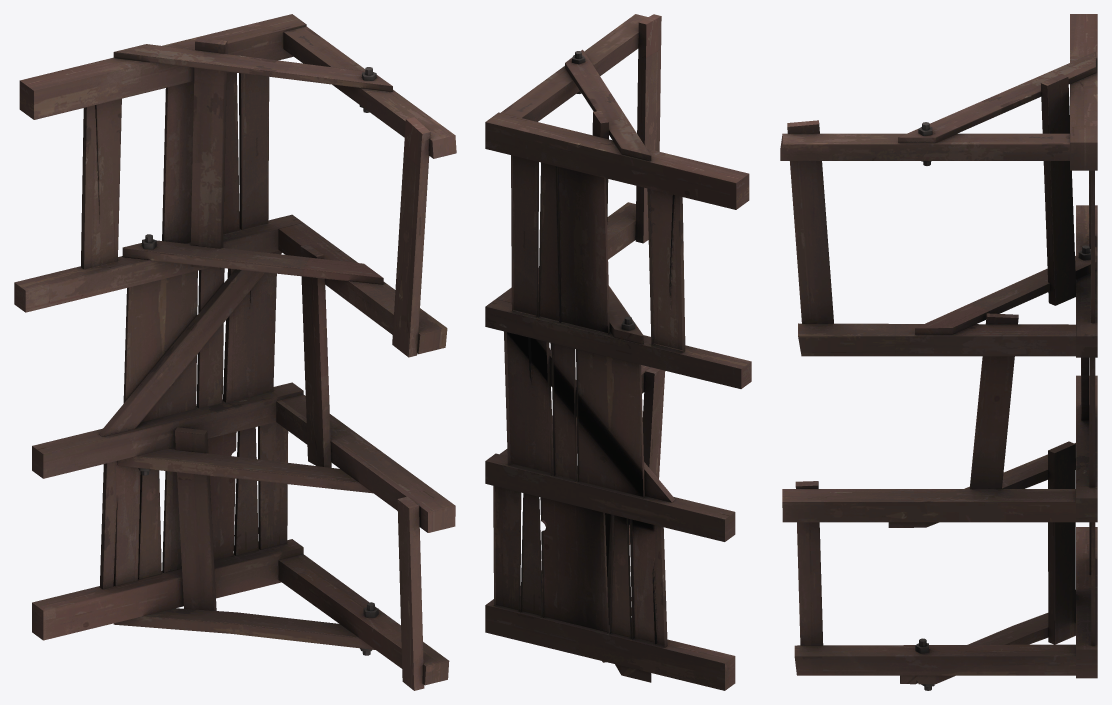
Rendered from props_coalmines_wood_support_256.glb.
3 views of the same model, side by side, from view 1: azimuth 30°, elevation 25°; view 2: azimuth 150°, elevation 25°; view 3: azimuth 270°, elevation 25° (orthographic). The views are drawn at different scales.
Parts seen in each view (by area): view 1: models/props_coalmines/wood_support_256; view 2: models/props_coalmines/wood_support_256; view 3: models/props_coalmines/wood_support_256.
Part boxes in pixels (box(x1,y1,x2,y2)): models/props_coalmines/wood_support_256: box(14, 14, 456, 690); models/props_coalmines/wood_support_256: box(485, 14, 751, 690); models/props_coalmines/wood_support_256: box(780, 14, 1097, 690).
Bounding box in the file's own units: 135 × 272 × 138.
1 material, 1 textured.
